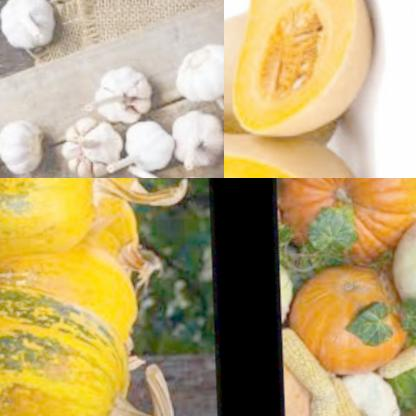corn: (281, 327, 335, 400), (329, 374, 380, 416), (373, 338, 416, 386), (307, 383, 344, 416)
garlic: (86, 57, 158, 136), (44, 117, 123, 178), (102, 122, 181, 178), (0, 0, 72, 58), (160, 108, 219, 178), (171, 33, 224, 108), (0, 120, 48, 177)
pumpkin: (224, 0, 382, 143), (0, 278, 130, 416), (224, 4, 336, 155), (0, 240, 137, 348), (291, 263, 406, 380), (281, 178, 416, 267), (224, 113, 365, 178), (0, 178, 109, 260), (0, 178, 148, 233), (389, 208, 416, 337)
